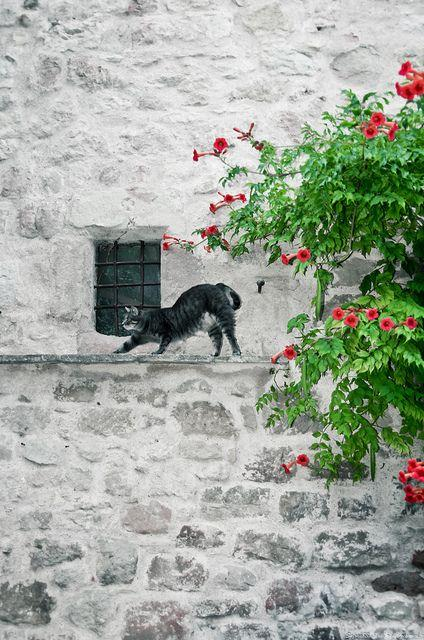kedo: (112, 283, 242, 356)
